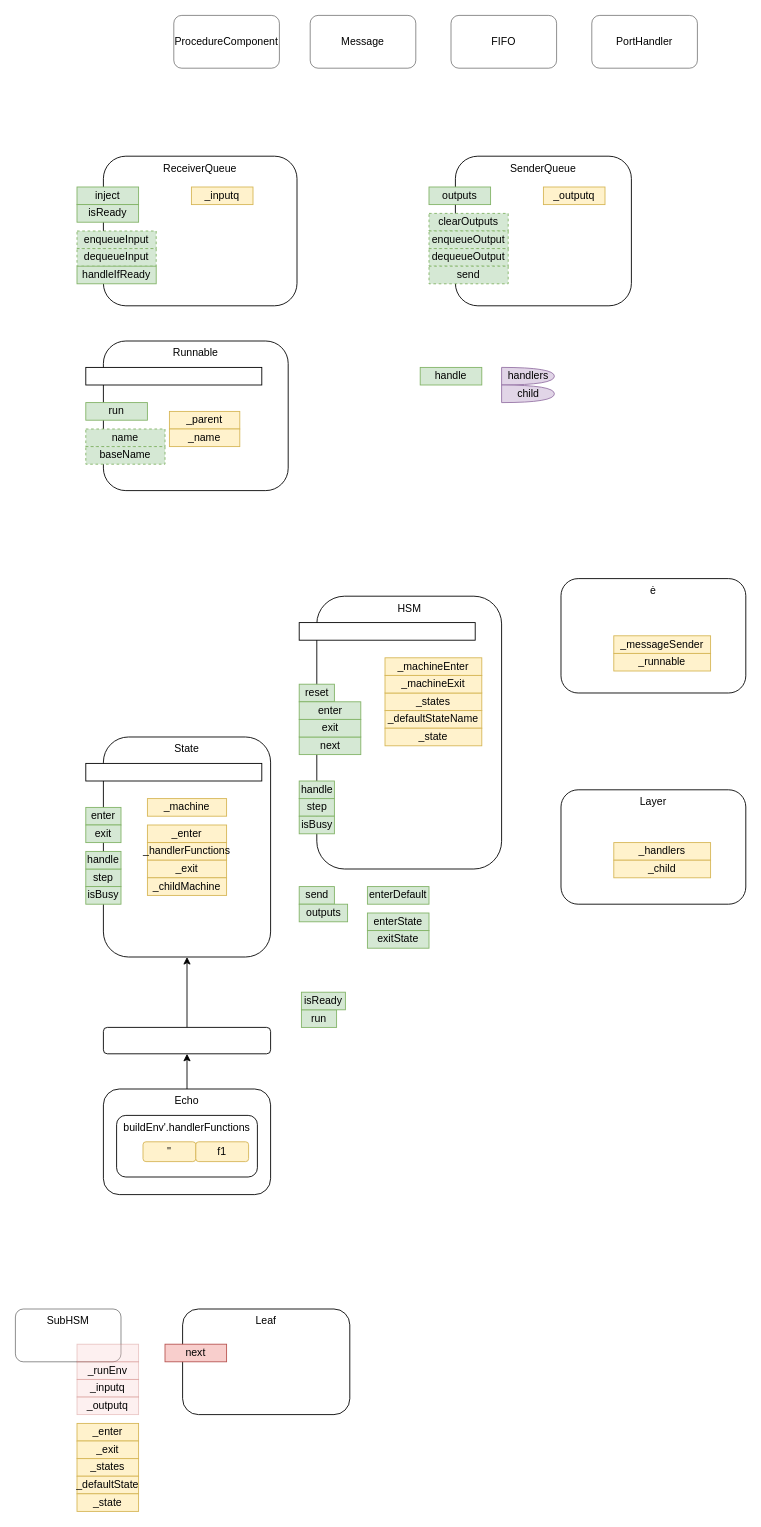
Some shapes in this 761 by 1527 pixel diagram are drawn without their labels. Here are the shapes that lost their labels. From the top down, the centre of each, then its label:
At pixel 173 376: "__init__ (parent, name)".
At pixel 386 631: "__init__ (functions, states)".
At pixel 173 772: "__init__ (machine, buildEnv)".
At pixel 187 1040: "Procedure".
At pixel 107 1352: "_buildEnv".
